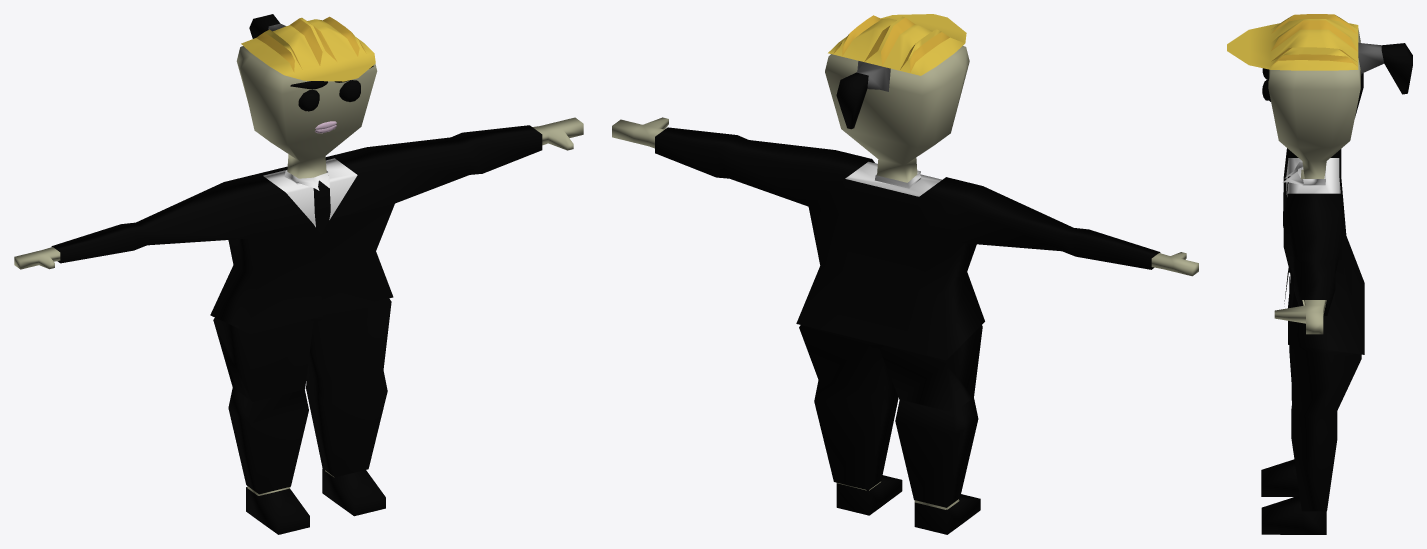
The model's file is mimar.fbx.
3 renders of one model, left to right at view 1: azimuth 30°, elevation 25°; view 2: azimuth 150°, elevation 25°; view 3: azimuth 270°, elevation 25°, orthographic. The views are drawn at different scales.
Parts seen in each view (by area): view 1: Cube.004, Cube.003, Küp.001, Cube.002, Cube.005; view 2: Cube.004, Cube.003, Küp.001, Cube.002, Cube.005; view 3: Cube.004, Küp.001, Cube.003, Cube.002, Cube.005.
Boxes of the visible parts, bbox=[...] form: Cube.004: bbox=[51, 125, 542, 332]; Cube.003: bbox=[213, 298, 391, 494]; Küp.001: bbox=[14, 14, 583, 495]; Cube.002: bbox=[241, 16, 375, 81]; Cube.005: bbox=[246, 468, 385, 534]; Cube.004: bbox=[655, 127, 1160, 360]; Cube.003: bbox=[799, 325, 982, 507]; Küp.001: bbox=[612, 46, 1198, 509]; Cube.002: bbox=[828, 14, 966, 75]; Cube.005: bbox=[836, 475, 980, 534]; Cube.004: bbox=[1282, 148, 1364, 354]; Küp.001: bbox=[1262, 28, 1412, 334]; Cube.003: bbox=[1289, 276, 1361, 511]; Cube.002: bbox=[1227, 14, 1358, 70]; Cube.005: bbox=[1261, 459, 1326, 534].
Bounding box in the file's own units: 661 × 540 × 186.
